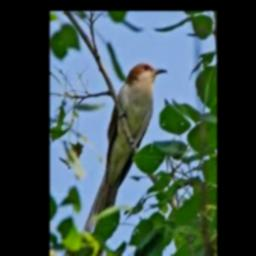Cuckoo: (83, 63, 168, 256)
